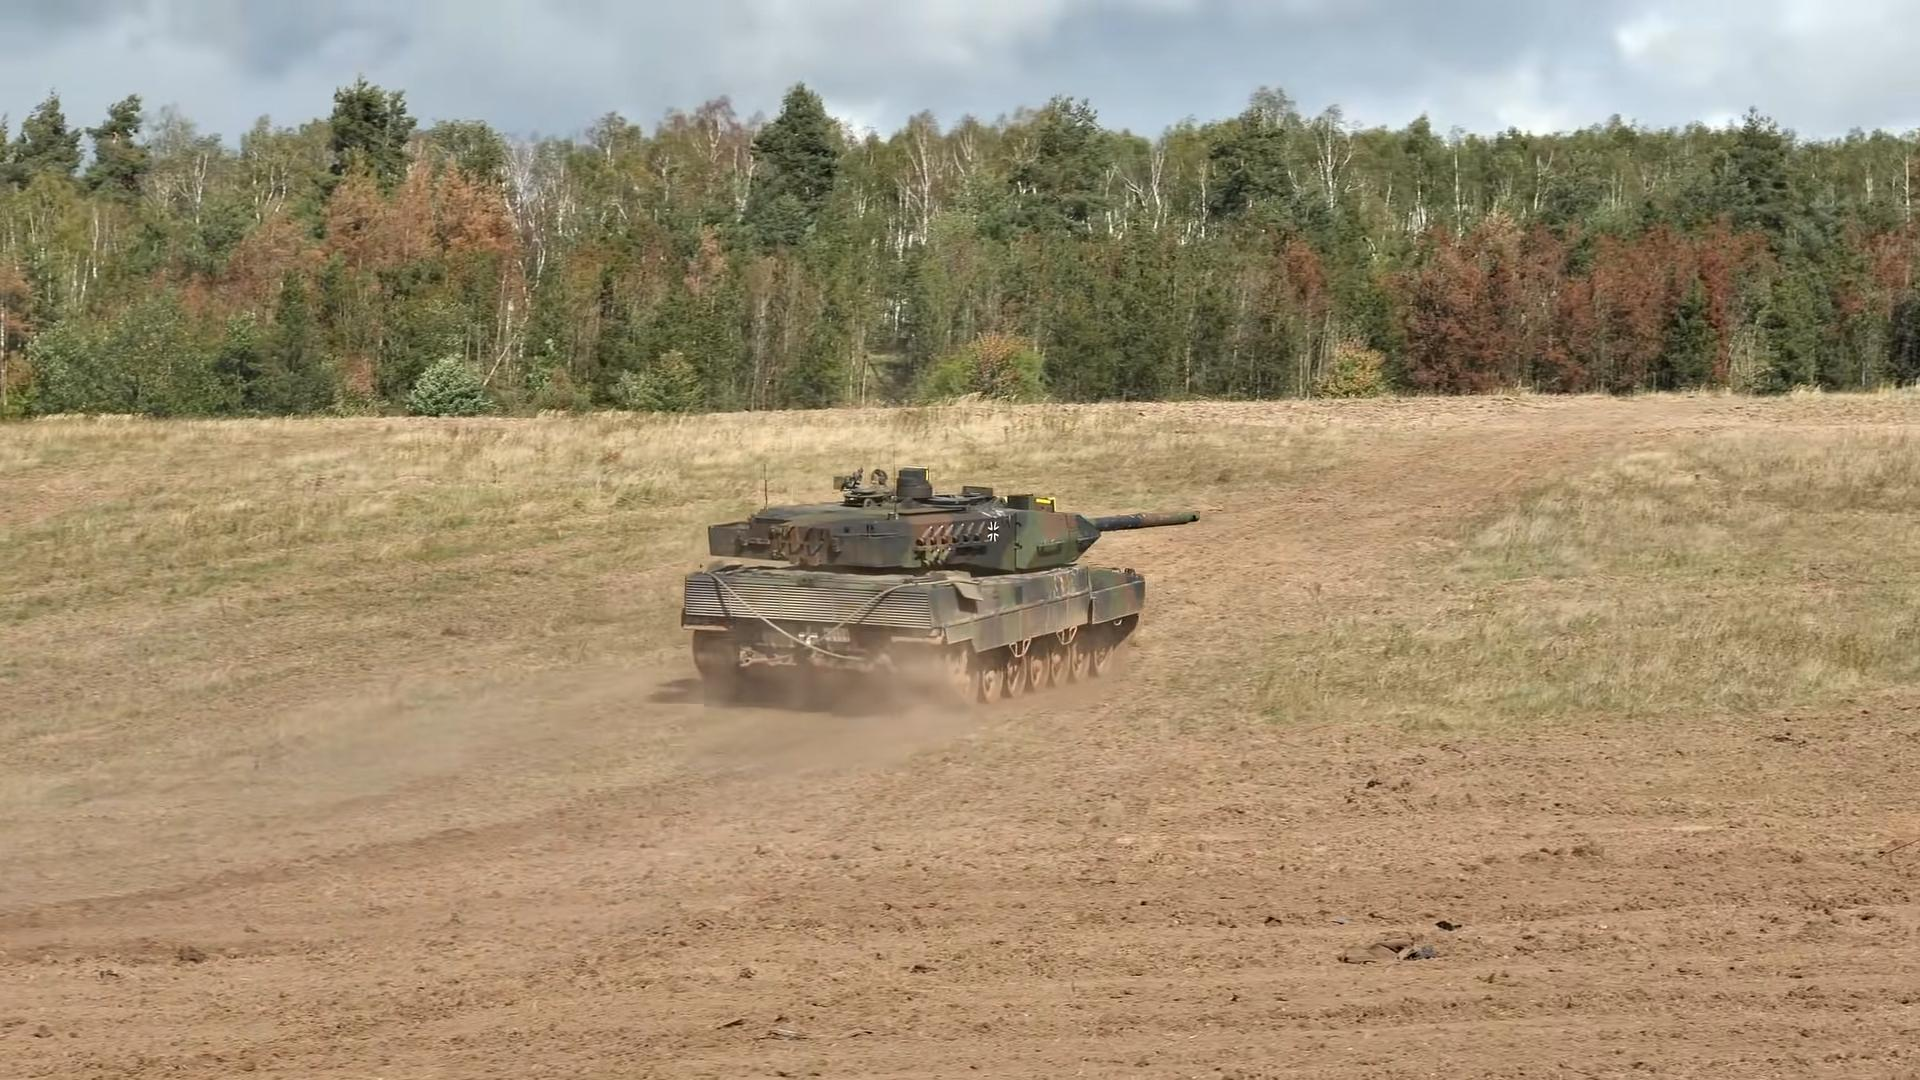tank: (679, 468, 1199, 704)
